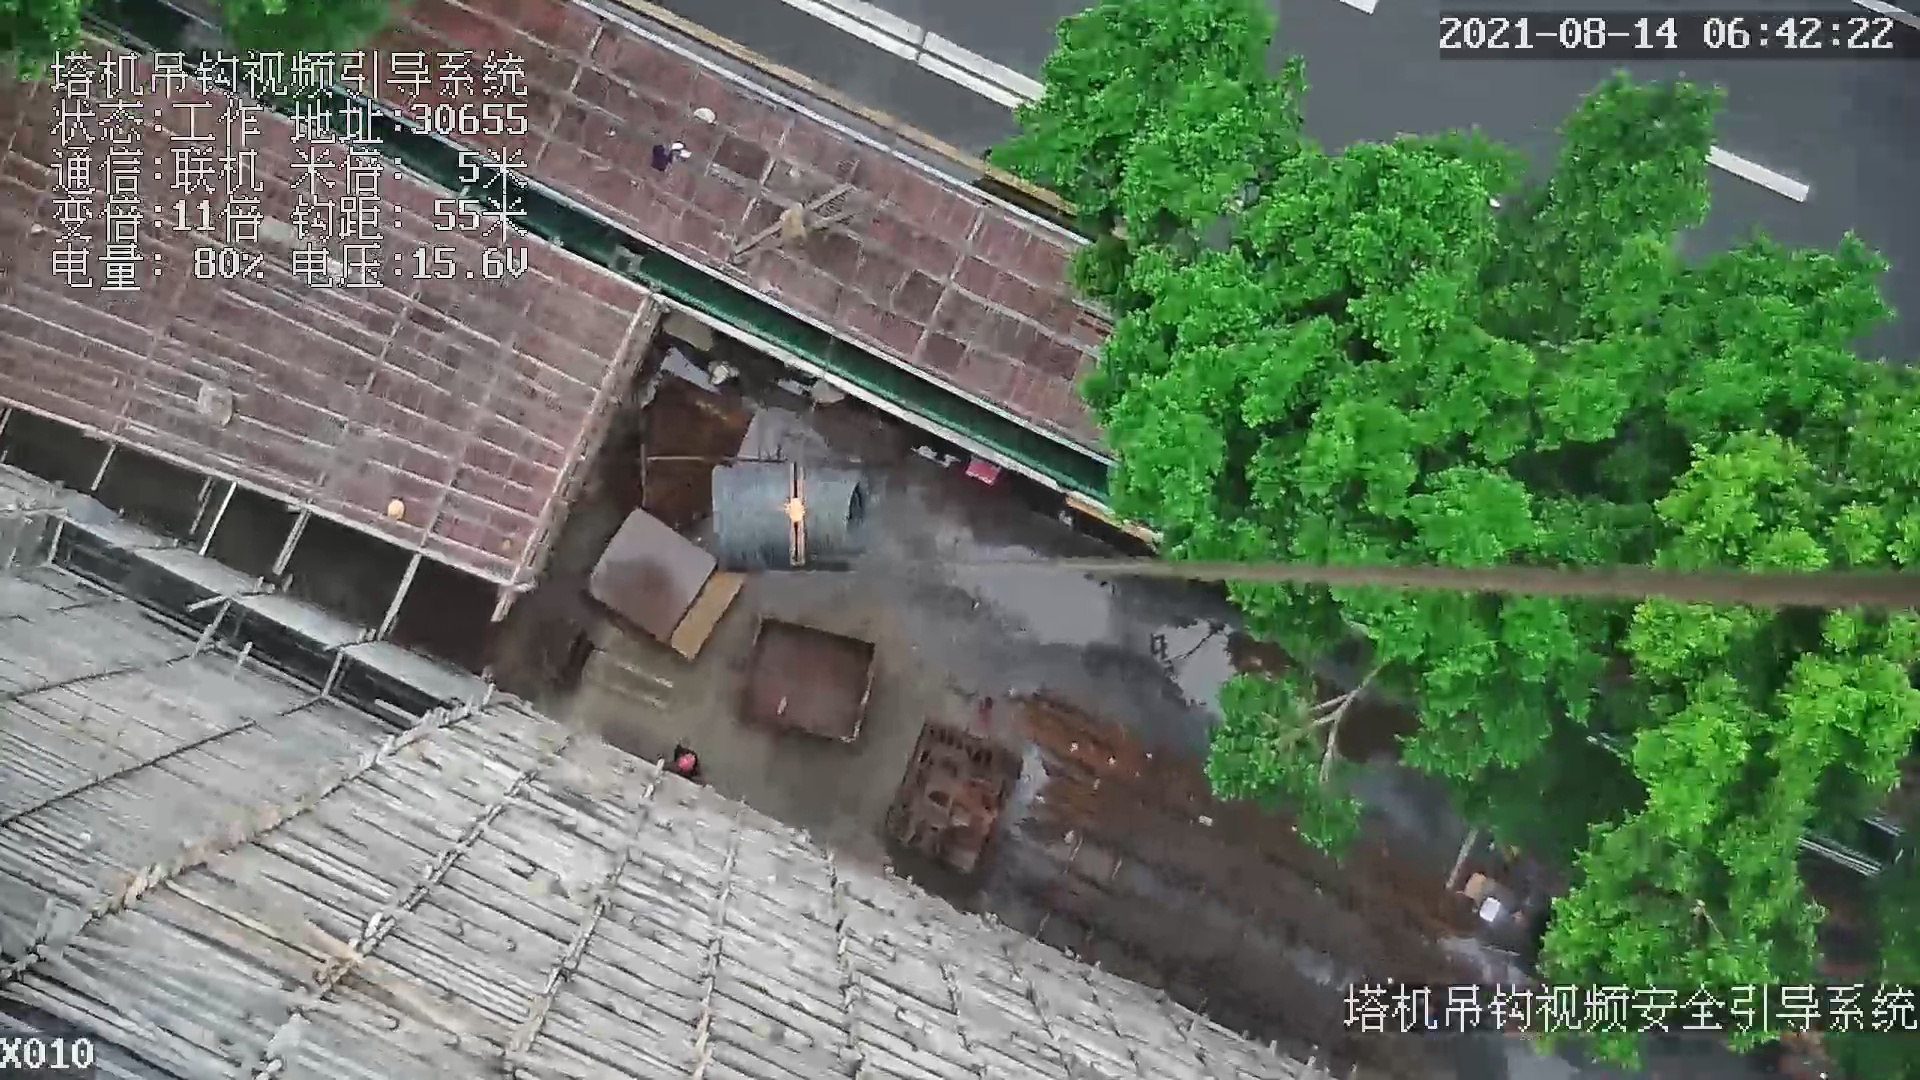helmet: (678, 757, 692, 774)
hook: (767, 458, 812, 564)
person: (669, 735, 708, 786)
